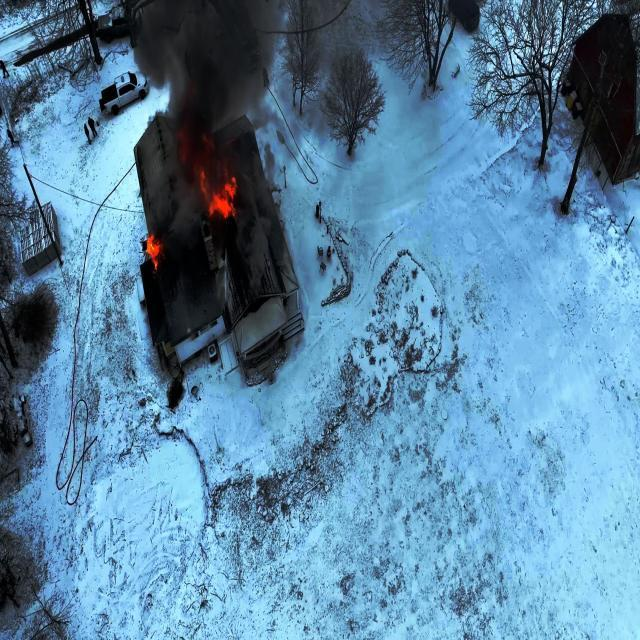Fire: (190, 150, 240, 230), (142, 227, 168, 272)
